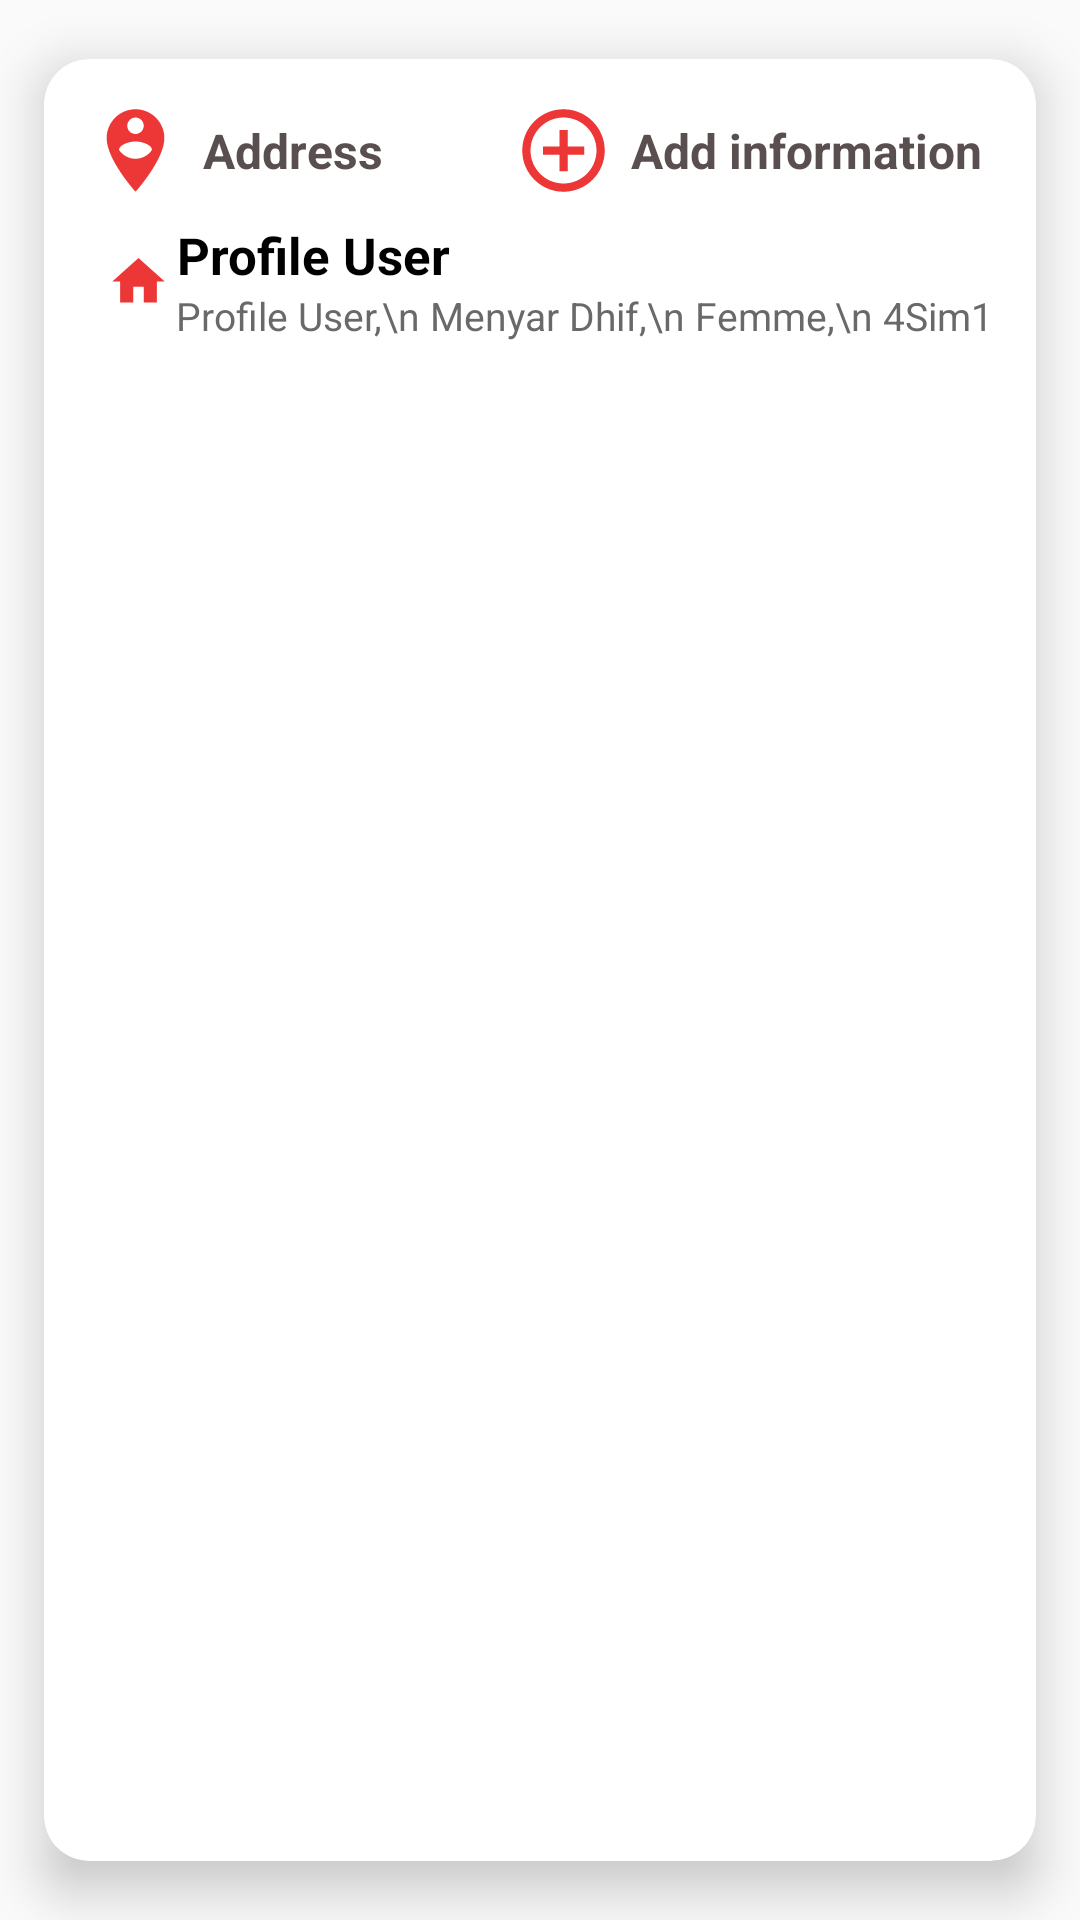

Icon bounding boxes for this 1080 x 1920 phone screenshot, format (x1, y1, x2, y2):
home: (112, 258, 165, 303)
person: (106, 109, 165, 192)
